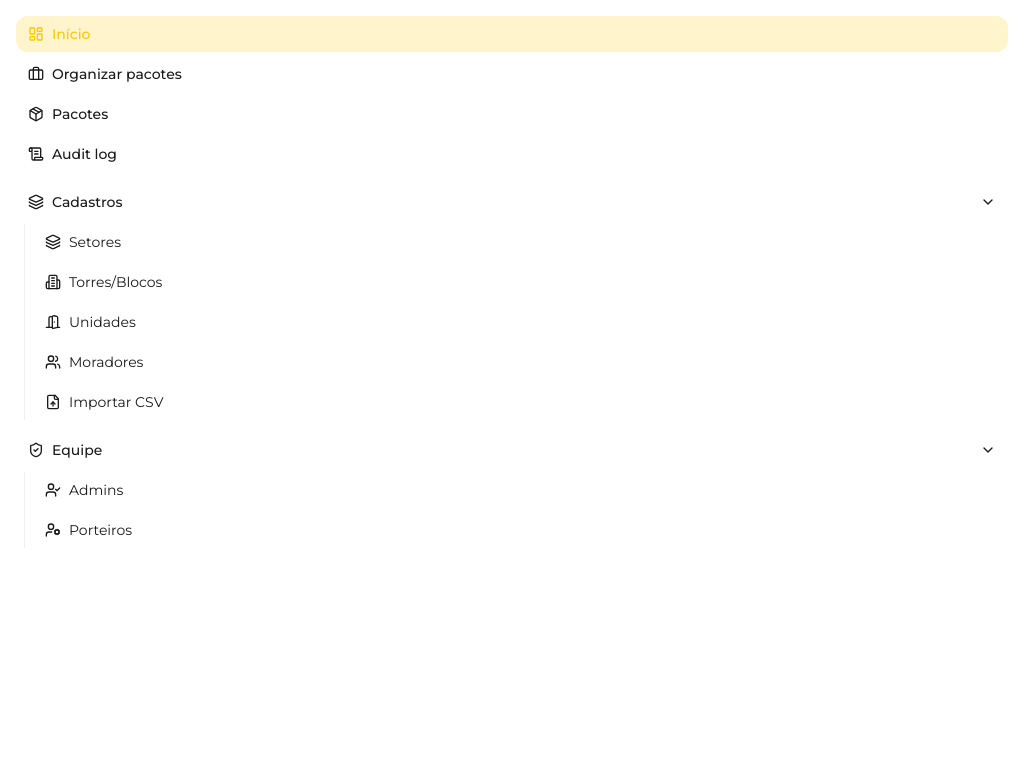
Test case: AdminSidebar › toggle de Cadastros esconde sub-items
The image size is (1024, 768).
Expected: the link "Setores" is shown, [45,233,121,251]
Click the button "Cadastros": point(87, 202) [16,184,1008,220]
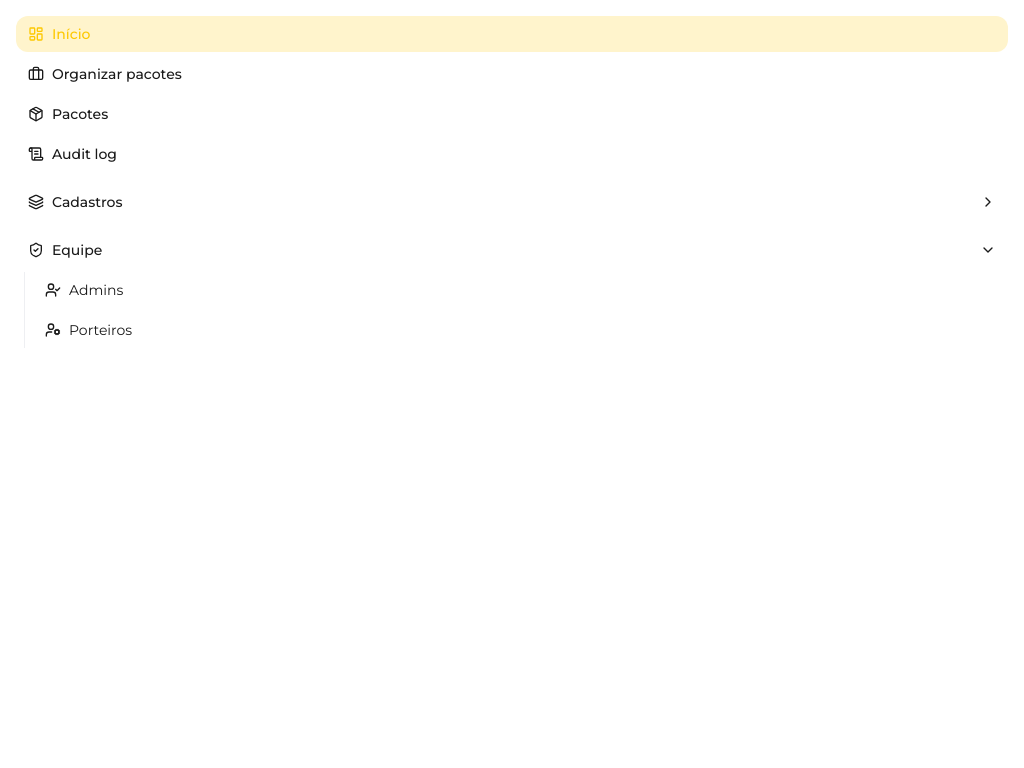
Now the link "Setores" is gone
